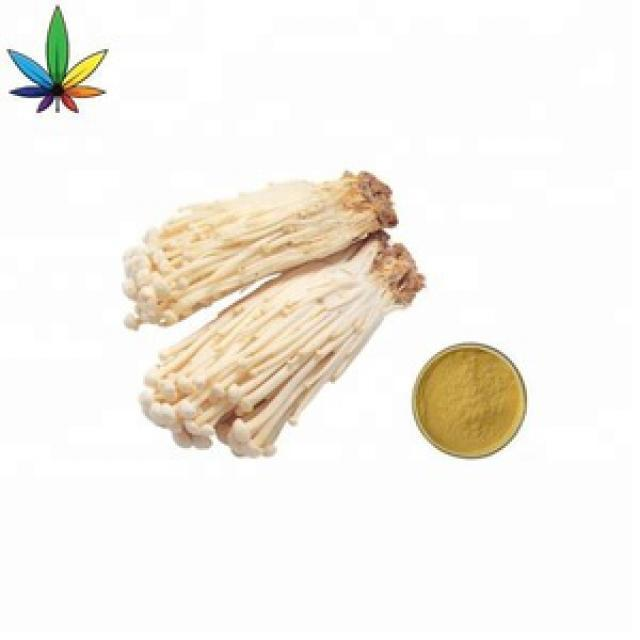Flammulina velutiper: (122, 168, 420, 455)
